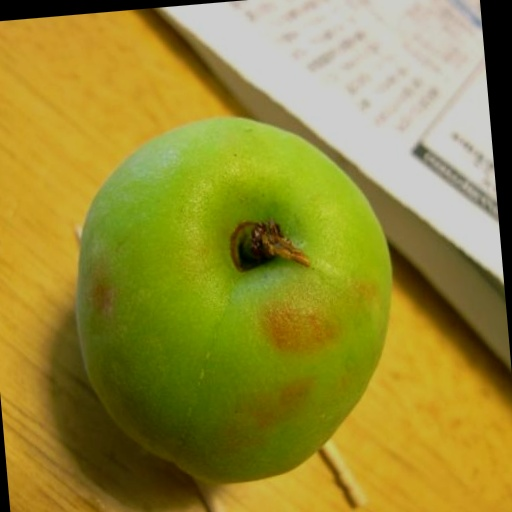fruit: (76, 118, 391, 482)
